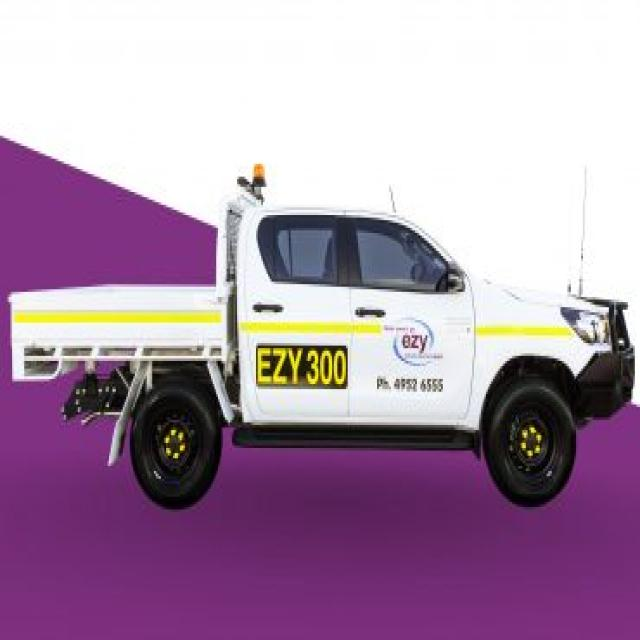light_vehicle: (9, 141, 633, 535)
